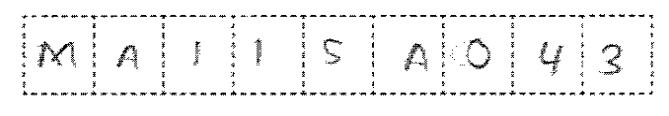0: (460, 34, 494, 74)
1: (181, 34, 211, 72), (244, 35, 274, 71)
3: (592, 39, 626, 78)
4: (532, 36, 568, 77)
5: (313, 33, 349, 71)
A: (113, 38, 147, 78), (399, 39, 432, 77)
M: (32, 37, 82, 76)
